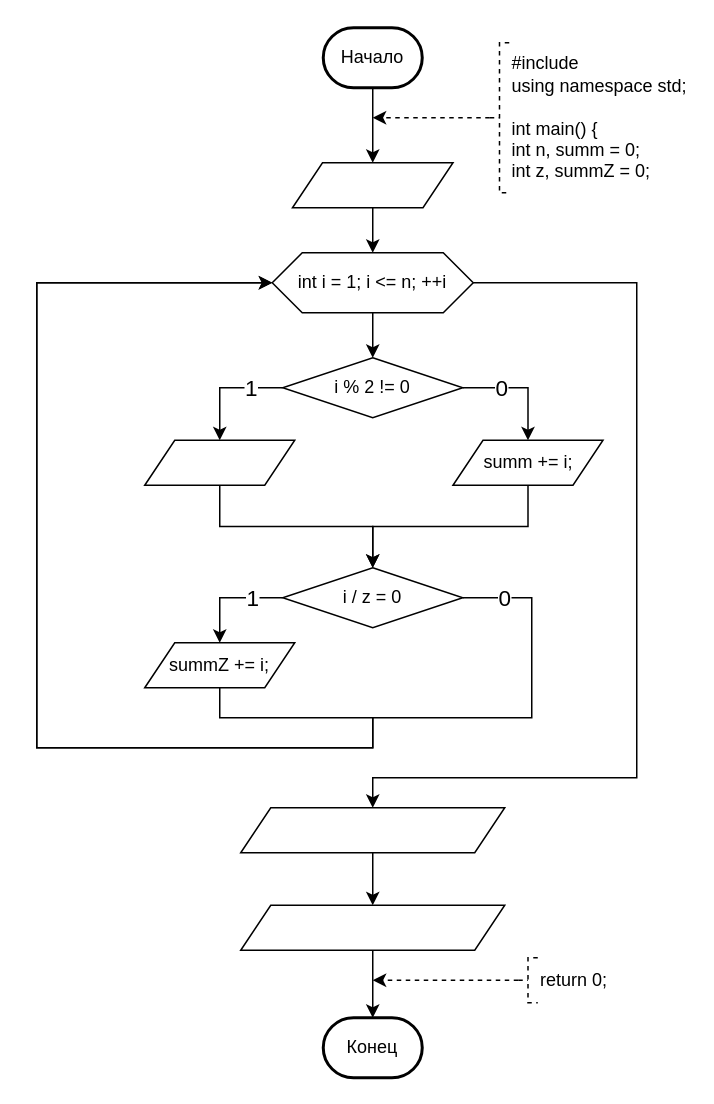
Image size: 714x1104. Some labels were removed from this diagram. Here are the shapes that lost their labels. From the top down, the centre of each, then its label:
At point (372, 184): "cin >> n >> z;".
At point (219, 462): "summ -= i;".
At point (372, 829): "cout << summ << endl;".
At point (372, 927): "cout << summZ << endl;".
